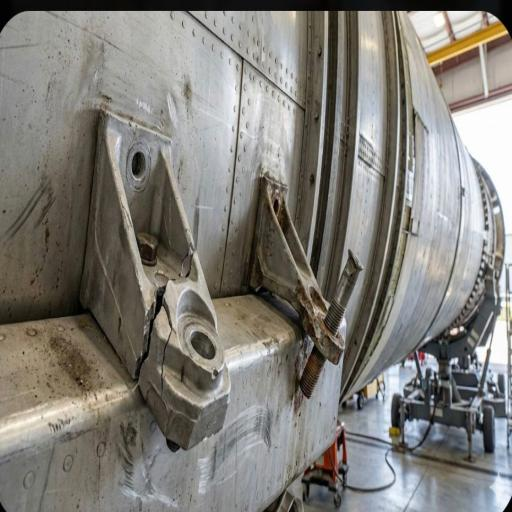fastening crack: (121, 236, 184, 374)
lack of details: (195, 322, 222, 374)
